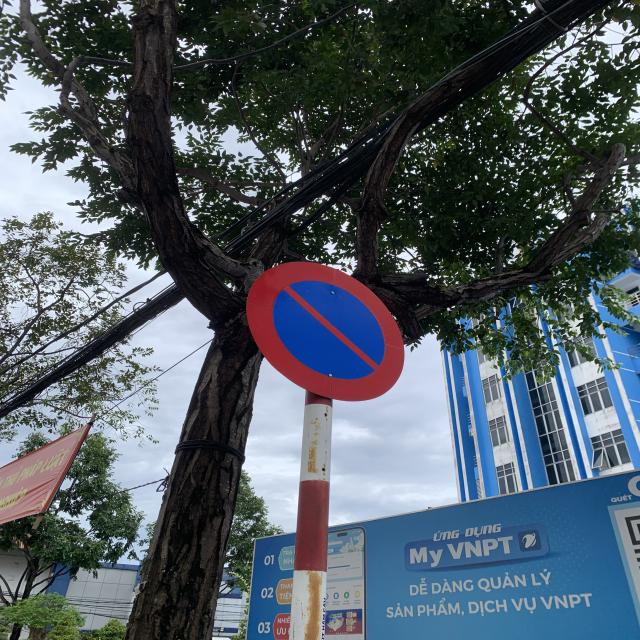Cam_Dau_Xe: (245, 262, 406, 403)
